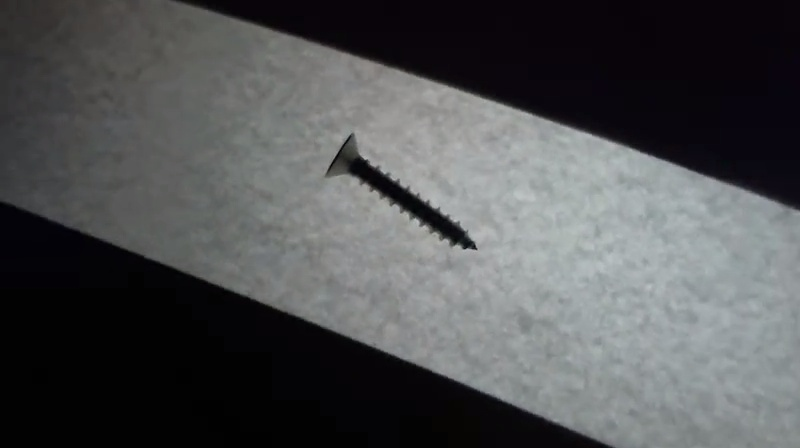S001: (324, 131, 483, 251)
